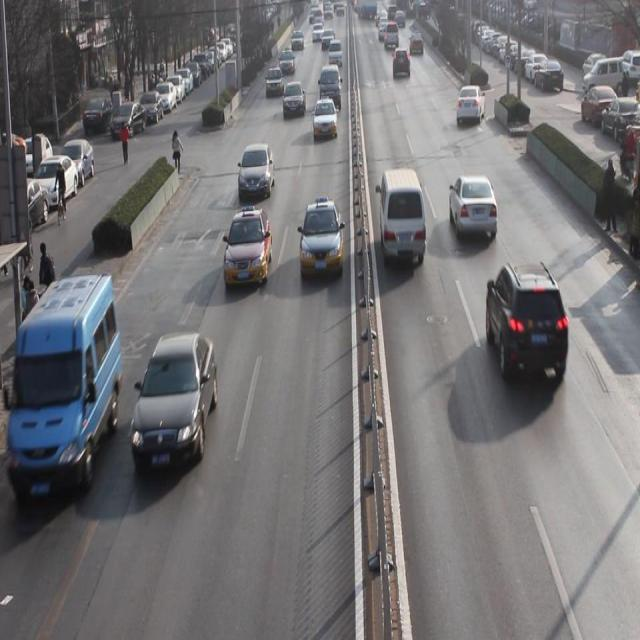car: (132, 338, 217, 473), (485, 261, 571, 388), (226, 208, 274, 292), (299, 200, 344, 284), (448, 177, 499, 243), (239, 146, 276, 202), (452, 82, 487, 128), (313, 99, 338, 143), (282, 80, 306, 123), (392, 44, 412, 82), (266, 66, 285, 98), (279, 46, 296, 76)
truck: (15, 279, 122, 503), (378, 167, 428, 269), (318, 66, 342, 112), (329, 40, 342, 70)
